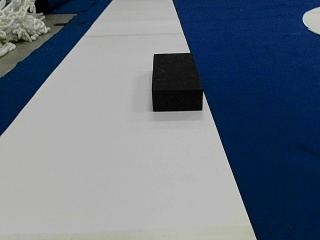block: (152, 52, 204, 111)
